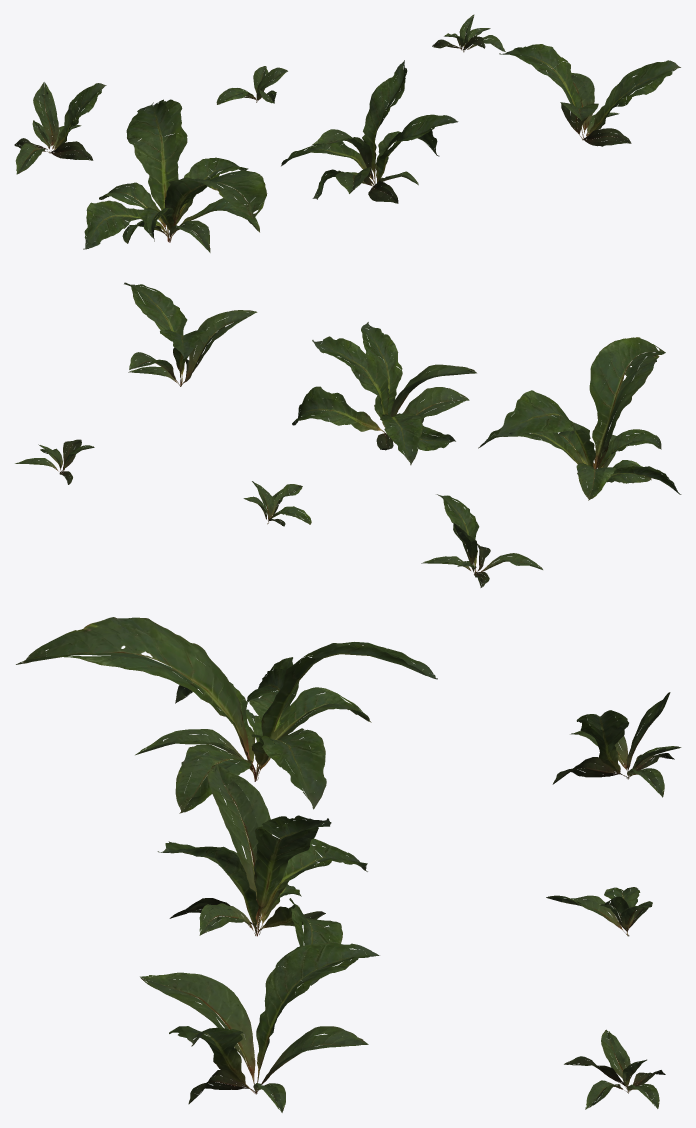
The model's file is anthurium_botany_01.glb.
The picture shows the model from 3 angles, top to bottom: view 1: azimuth 30°, elevation 25°; view 2: azimuth 150°, elevation 25°; view 3: azimuth 270°, elevation 25°; orthographic projection. The views are drawn at different scales.
Visible parts, largest first — view 1: anthurium_botany_01_a; view 2: anthurium_botany_01_a; view 3: anthurium_botany_01_a.
Boxes of the visible parts, box(x1,y1,x2,y2) form: anthurium_botany_01_a: box(14, 14, 680, 252); anthurium_botany_01_a: box(15, 282, 681, 587); anthurium_botany_01_a: box(16, 617, 681, 1112).
Bounding box in the file's own units: 2.8 × 0.4981 × 1.8.
1 material, 1 textured.
